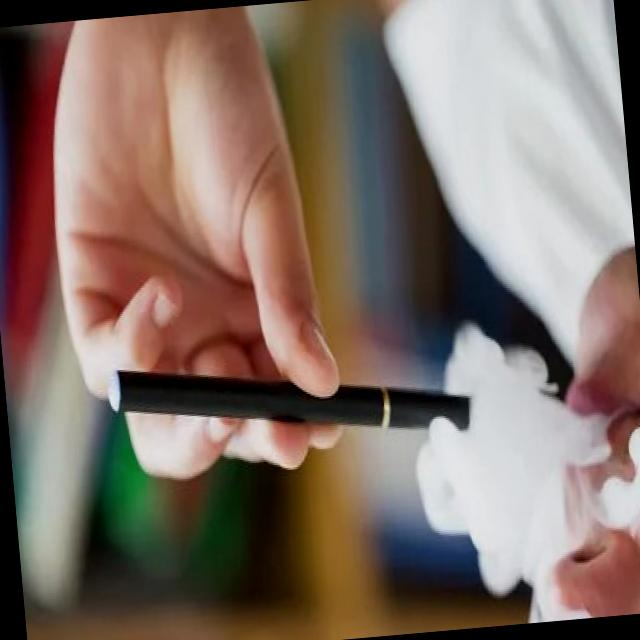cigarette: (102, 322, 524, 482)
